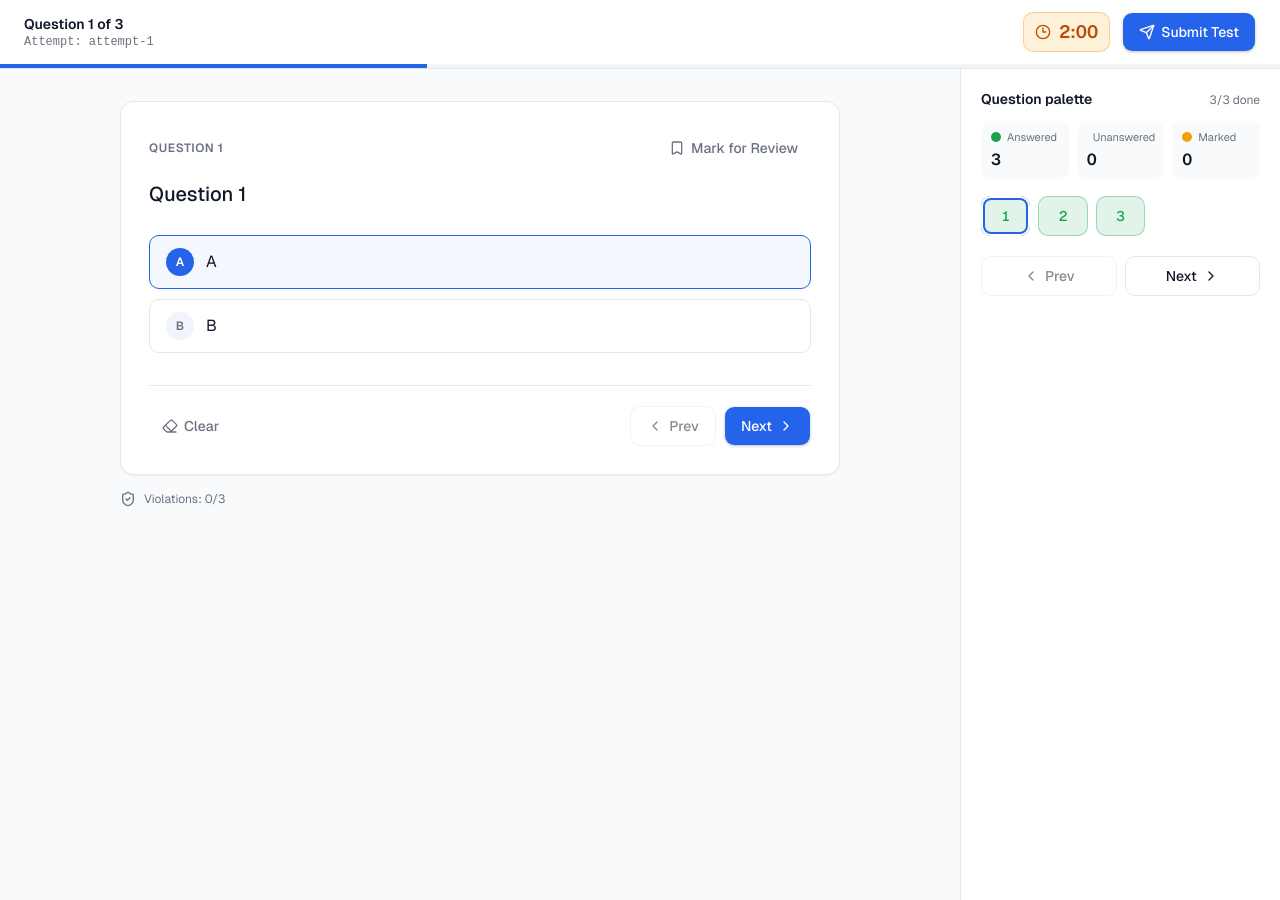
Test case: TestEnvironment submit confirmation dialogs › reports when every question is answered
The image size is (1280, 900).
Click the button "Submit Test".
click(1189, 32)  # box [1122, 12, 1256, 52]
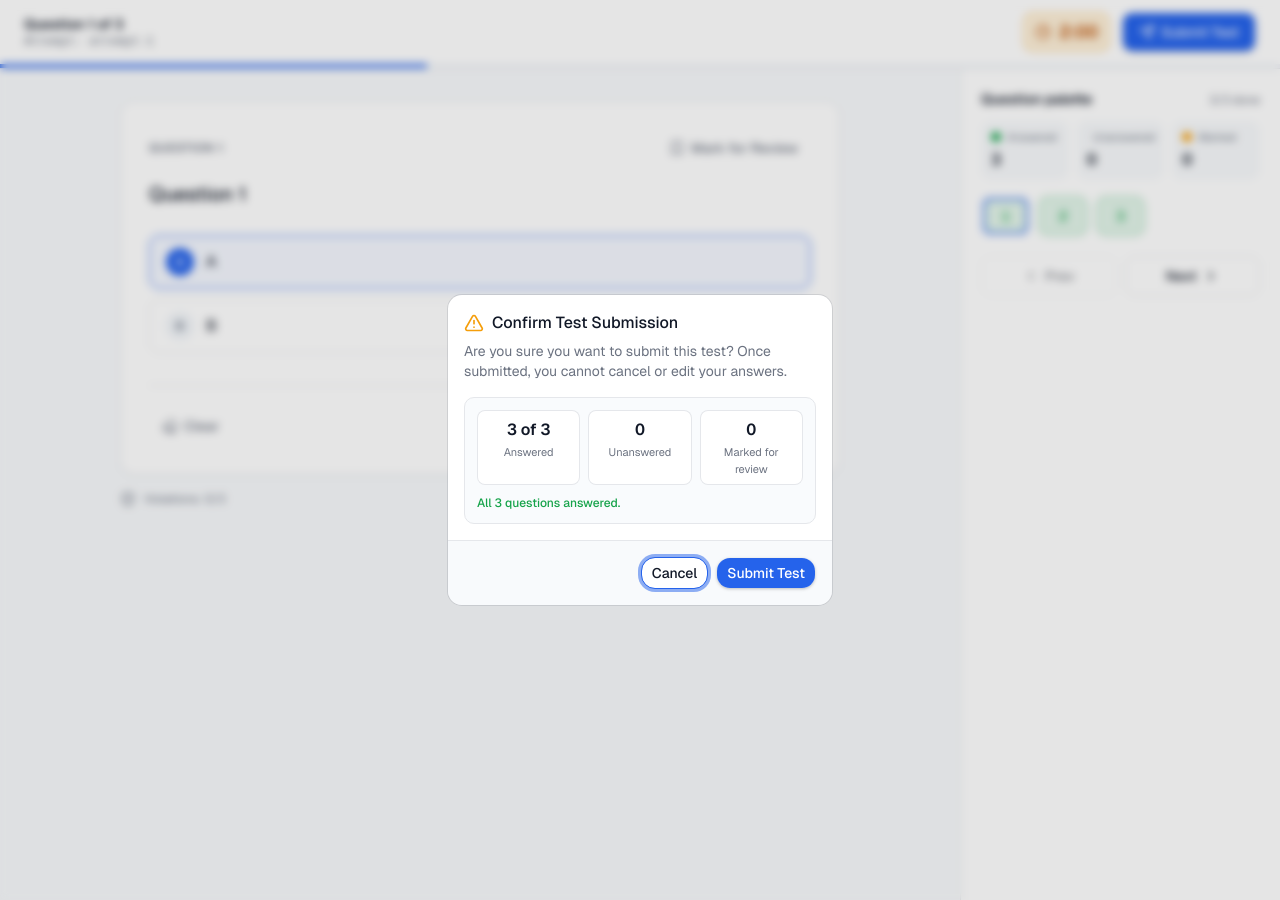
Expected: the text "All 3 questions answered." is shown, [477, 495, 620, 511]
